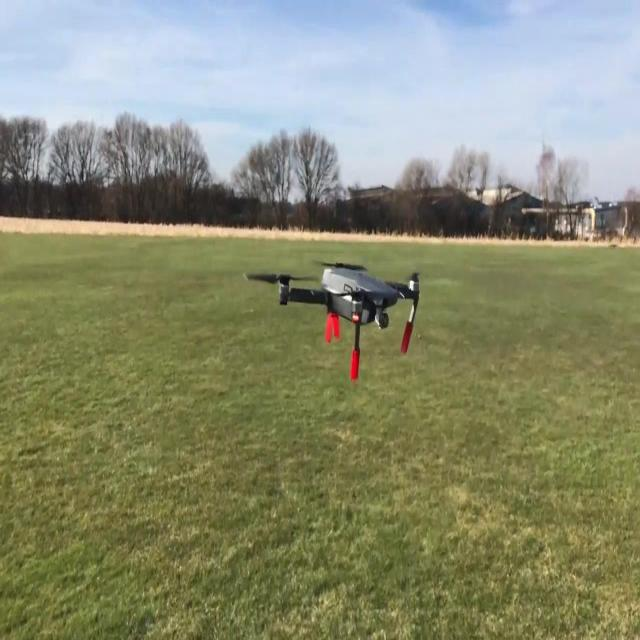drone: (243, 261, 420, 382)
